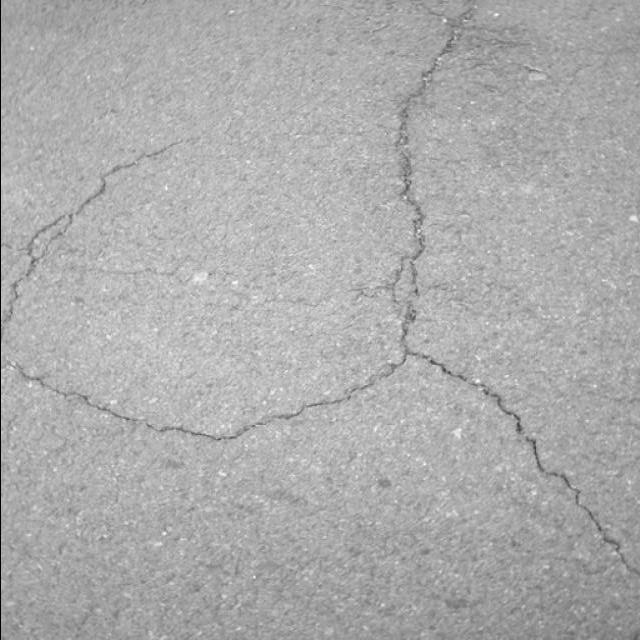SurfaceCrack: (350, 0, 638, 639)
